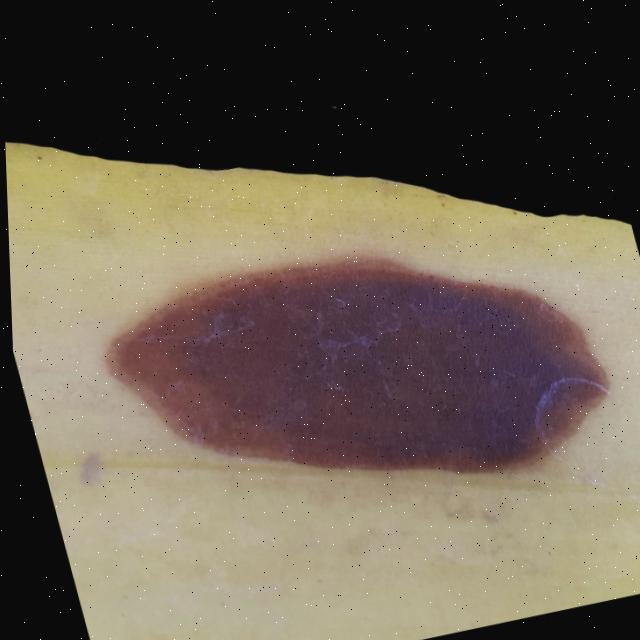mite: (281, 282, 418, 417), (21, 140, 53, 173), (427, 183, 457, 215), (433, 189, 450, 209), (29, 147, 46, 165), (325, 97, 341, 111), (32, 152, 43, 162)
sunburn: (85, 198, 627, 551)
